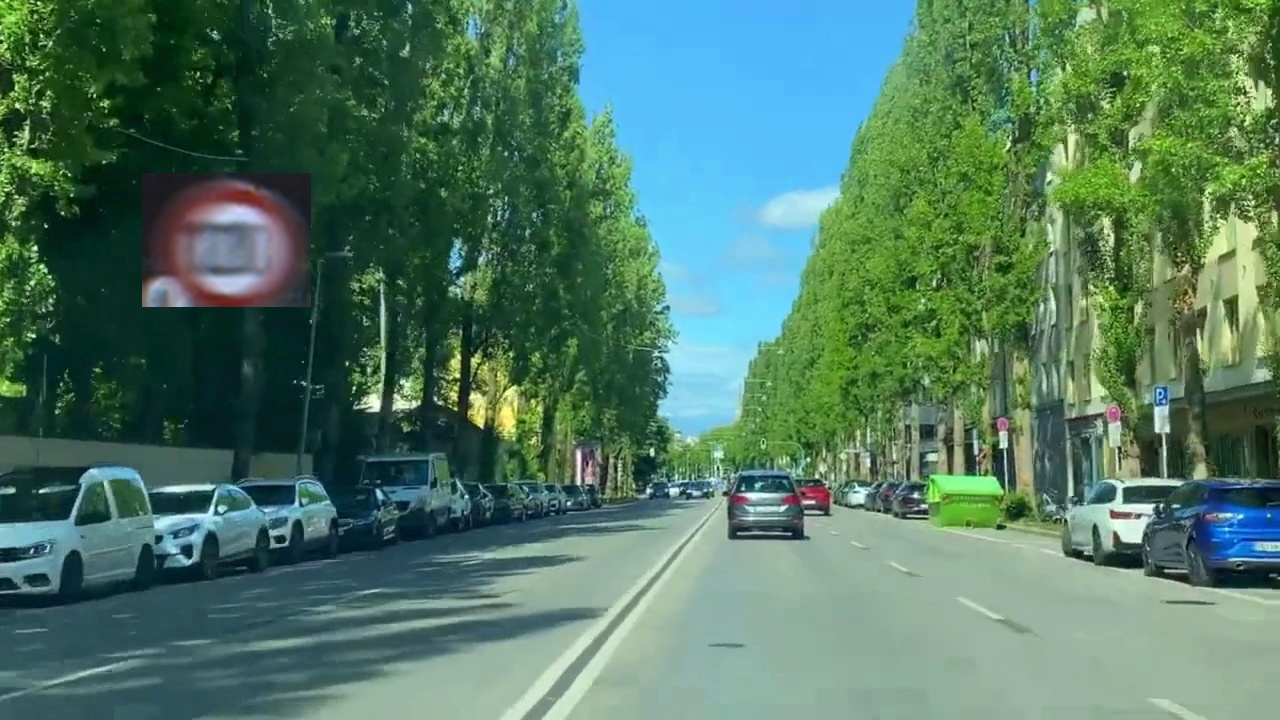Speed 120: (142, 173, 311, 307)
